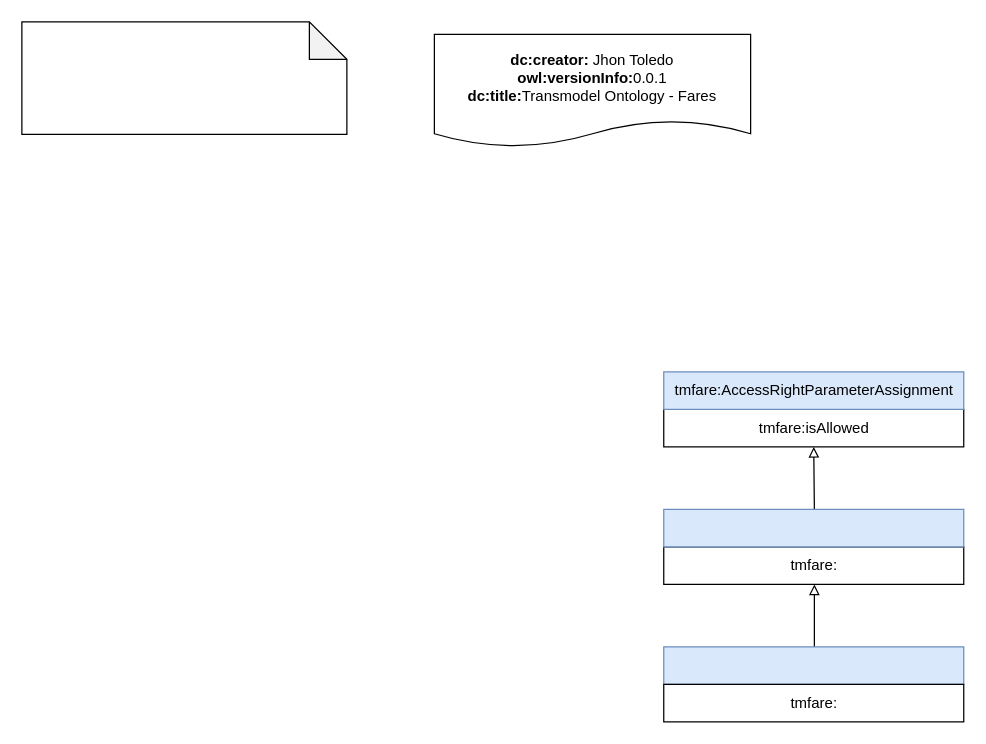
Image size: 986x744. Some labels were removed from this diagram. Each missing label, with the centre of its shape:
"base : http://base.namespace.com tmfare: http://w3id.org/transmodel/fare#" belongs at (x=184, y=77).
"tmfare:GenericParameterAssignment" belongs at (x=813, y=665).
"tmfare:ValidityParameterAssignment" belongs at (x=813, y=527).
